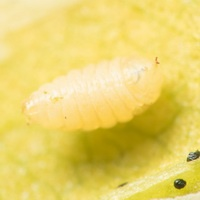insect: (24, 57, 161, 130), (187, 150, 199, 161)
